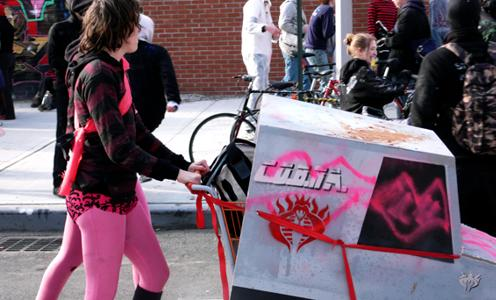person: (60, 4, 211, 300)
